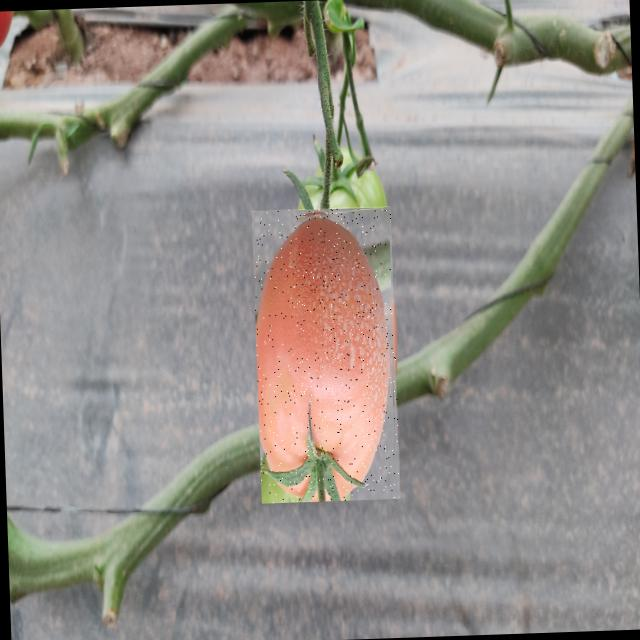Ripe Tomato: (251, 206, 400, 504)
